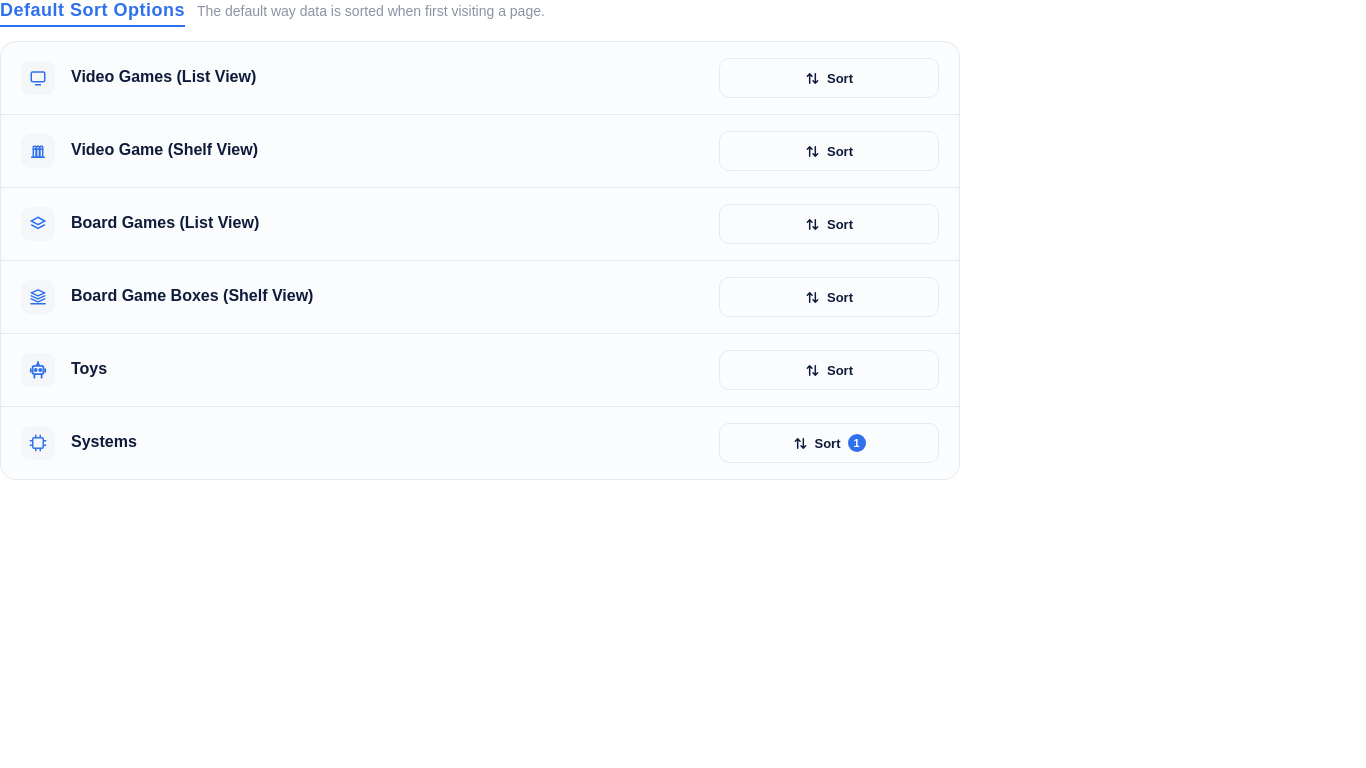
Test case: DefaultSortSettings › shows the stored default levels in the sort popover
Click the button with aria-label "Default sort for Systems": (829, 443) [719, 423, 939, 463]
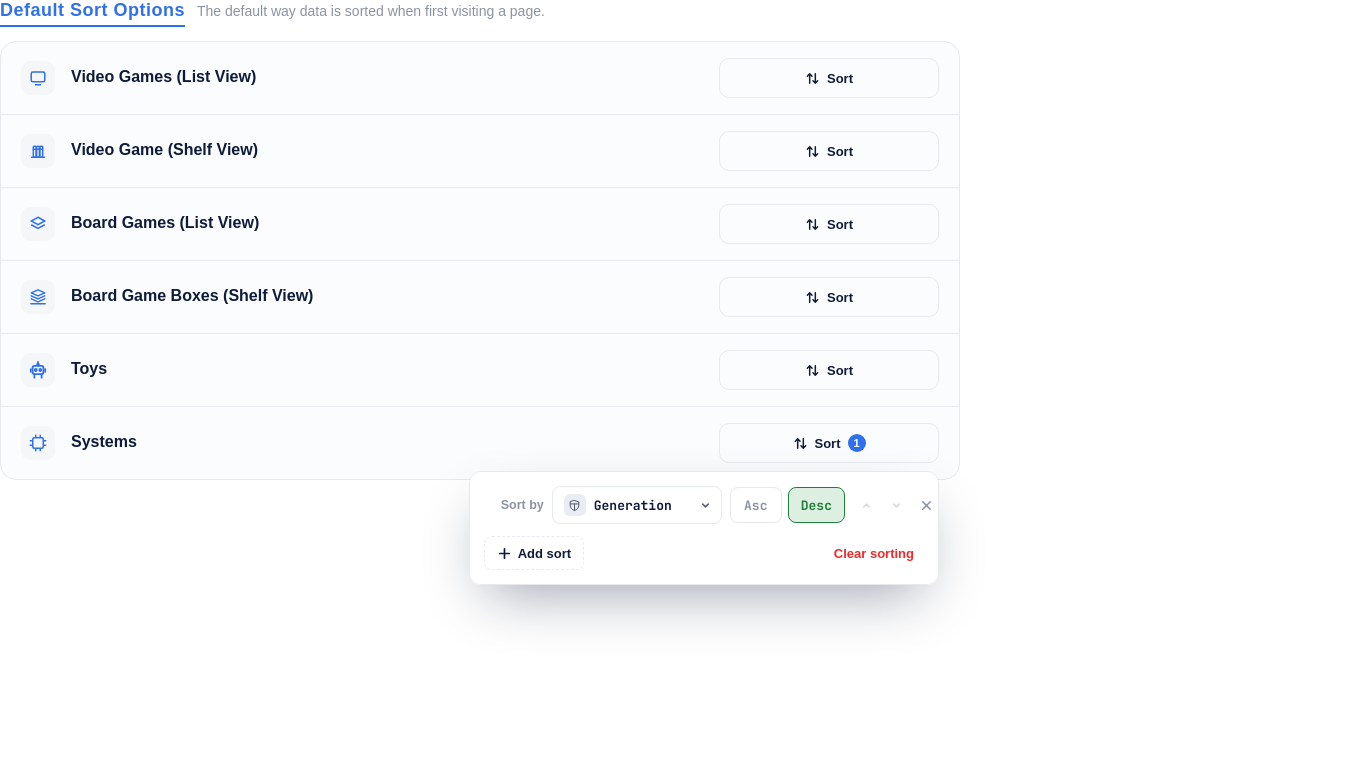
Result: the dialog named "Default sort for Systems options" shows "Sort by" at [501, 498, 544, 512]
